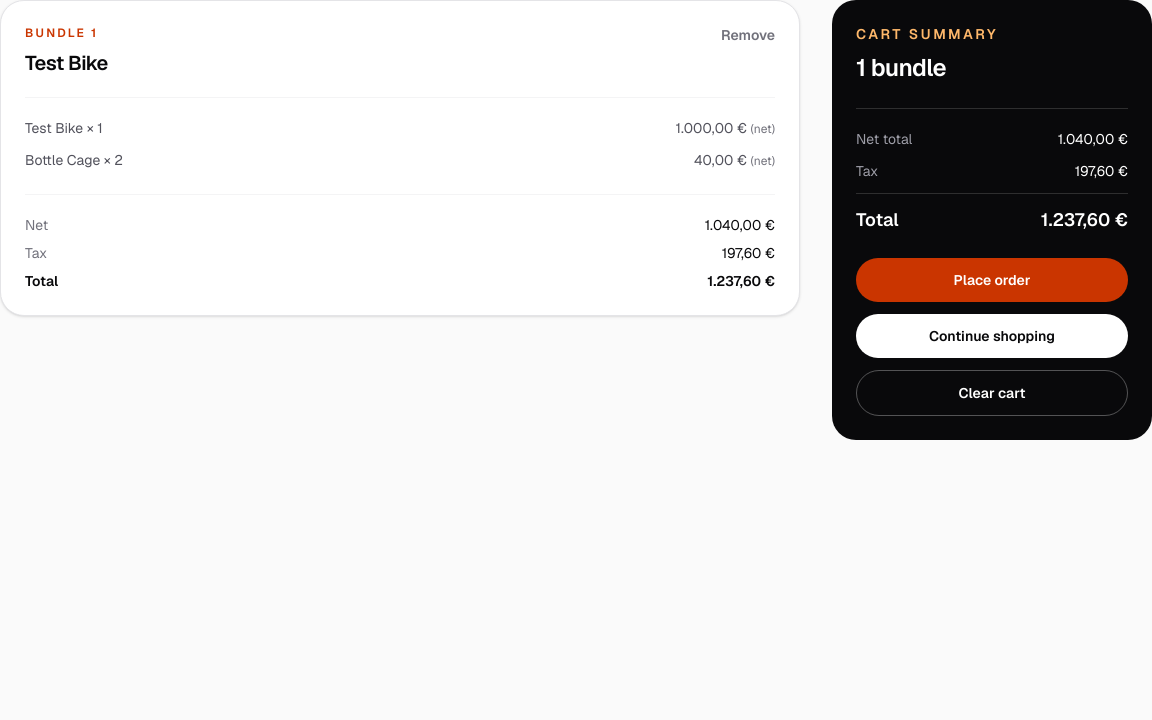
Test: CartView › keeps the cart when stock validation fails
Click the button "Place order" at coordinates (992, 280), box [856,258,1128,302]
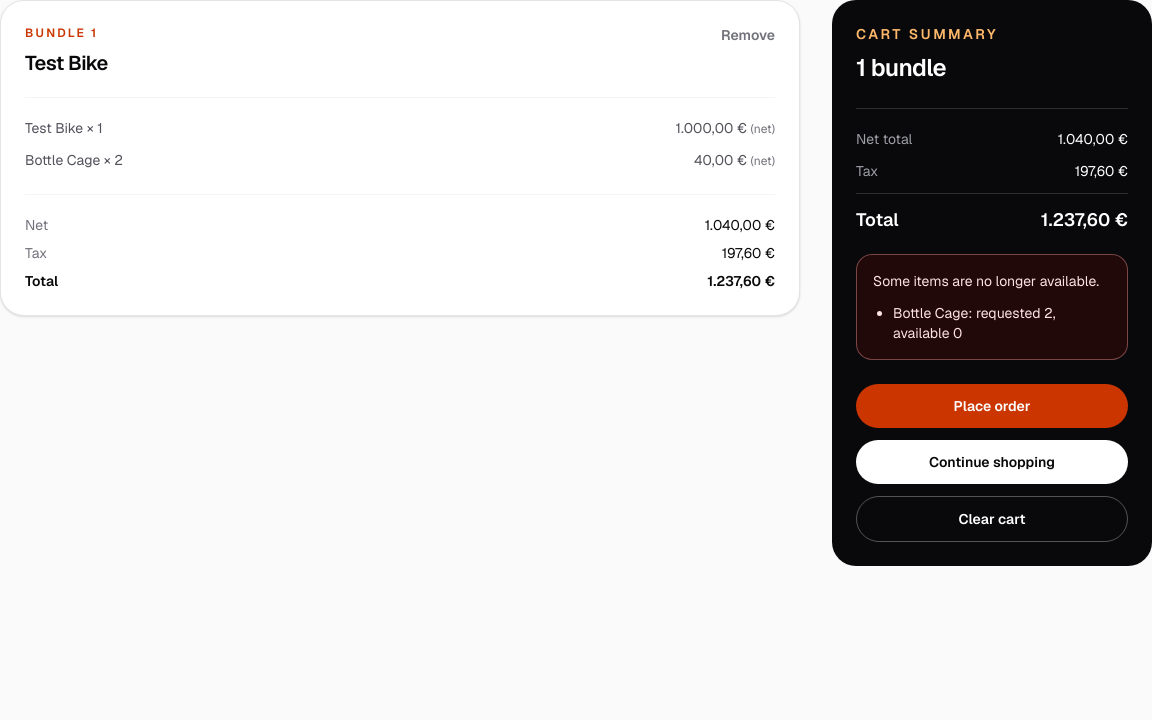
Expected: the text "Some items are no longer available." is shown, [873,271,1111,291]
Expected: the list item "Bottle Cage: requested 2, available 0" is shown, [893,304,1056,342]
